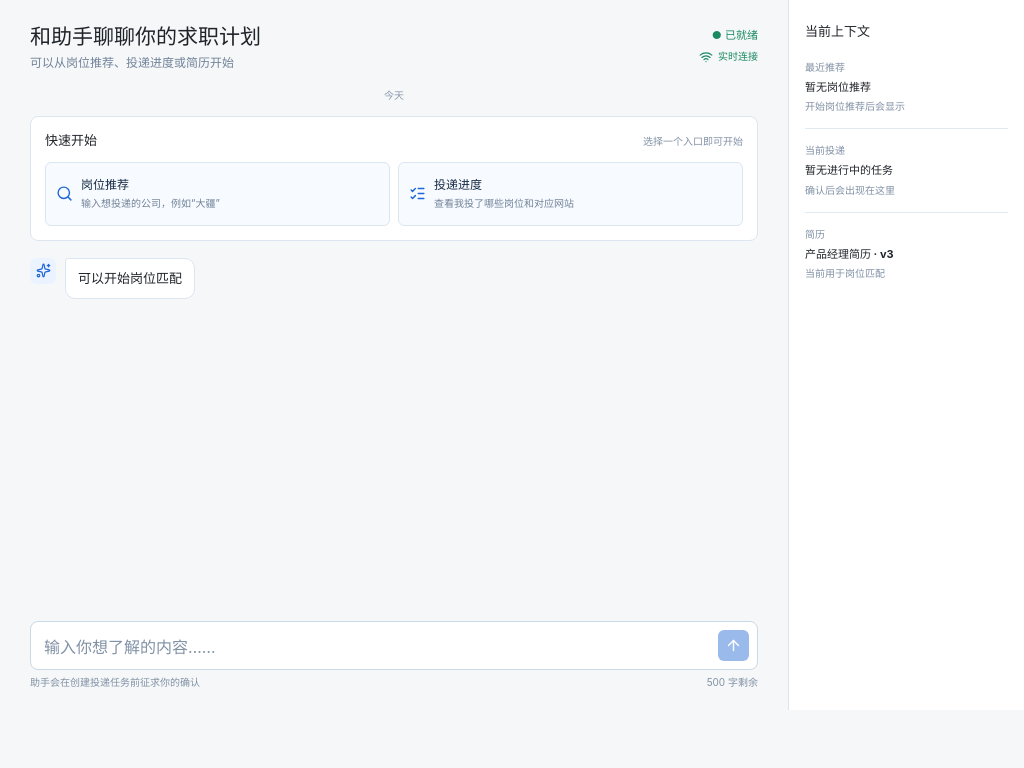
Test: ChatHome › shows live process updates for the loaded conversation
This screenshot has width=1024, height=768.
Expected: the text "可以开始岗位匹配" is shown, [78,269,182,288]
Expected: the text "实时连接" is shown, [699,50,758,64]
Type "查看投递进度" into the text box named "输入消息" at (376, 647), box [42,633,710,661]
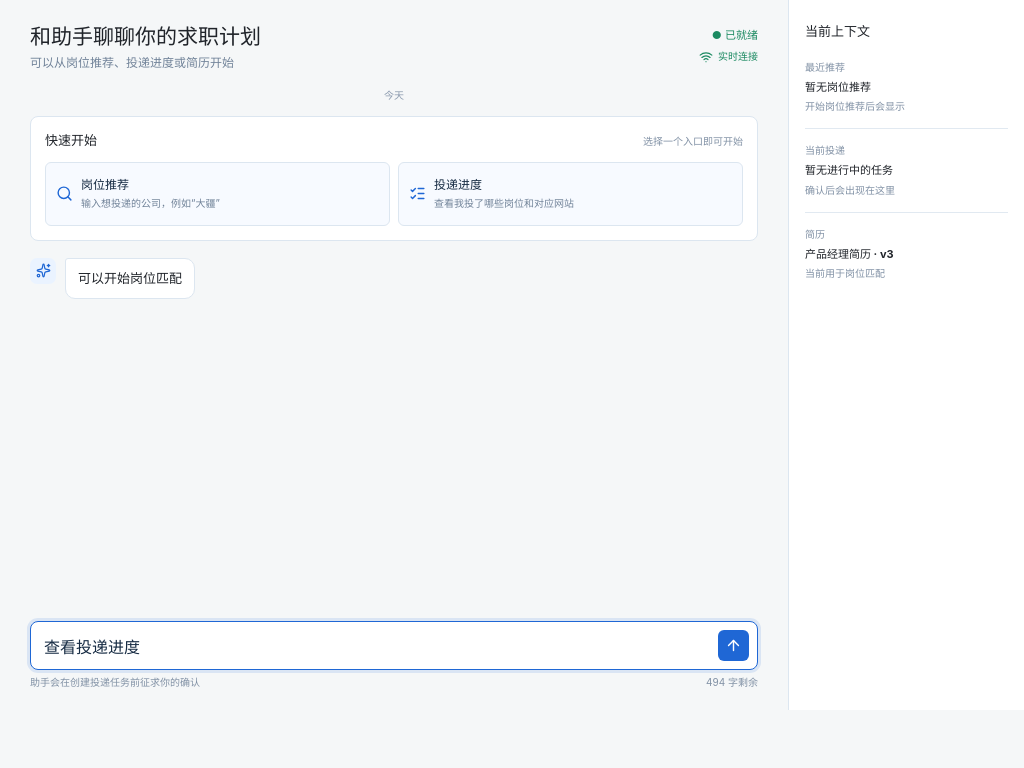
Click the button named "发送" at (734, 646), box [718,630,749,661]
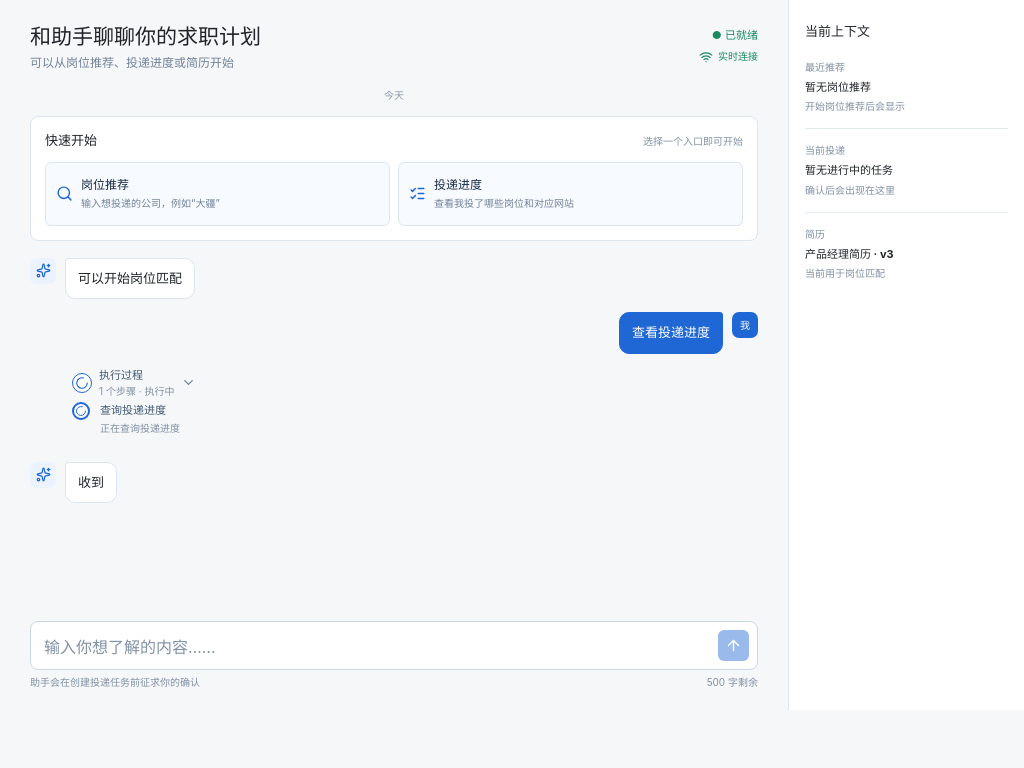
Now the text "正在查询投递进度" is shown, box [100,422,180,434]
